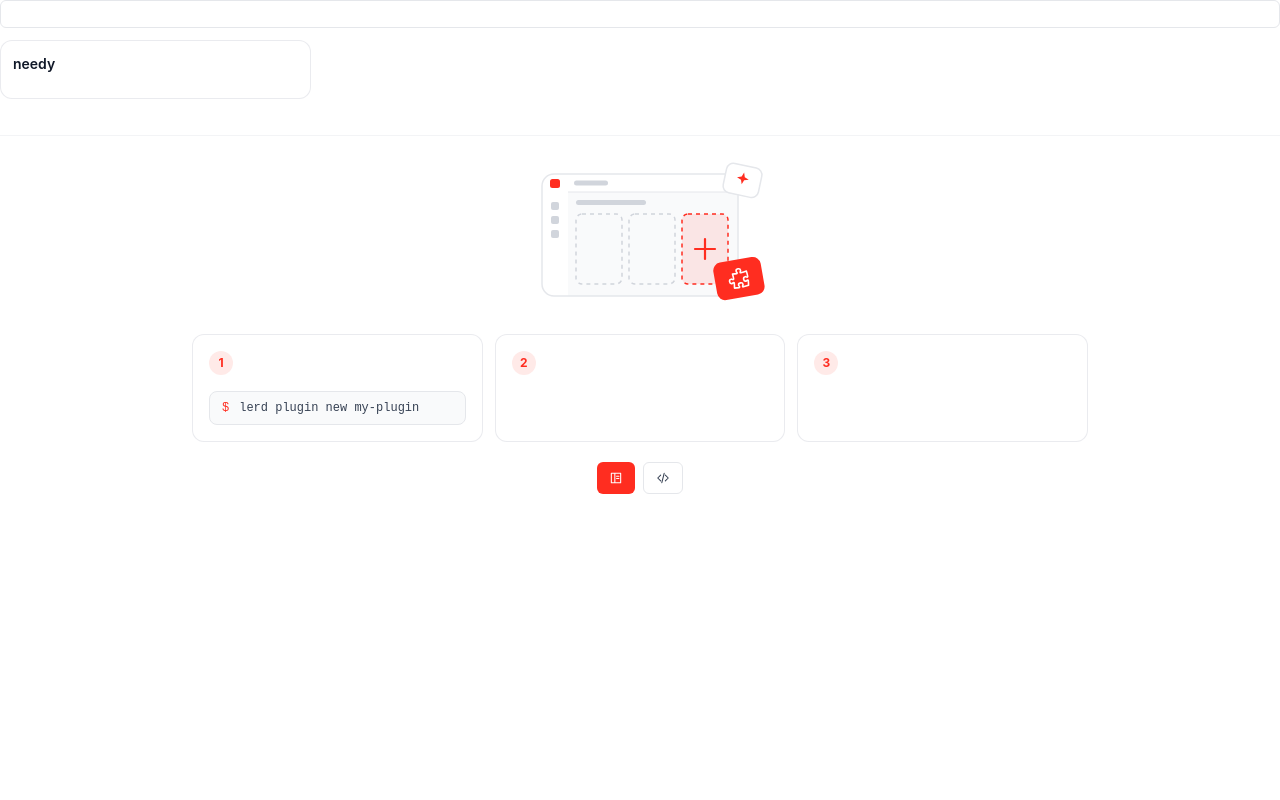
Test: lists what a plugin requires and offers no install while something is missing
Click the button "needy". click: (34, 64)
box: 0,40 -> 311,99
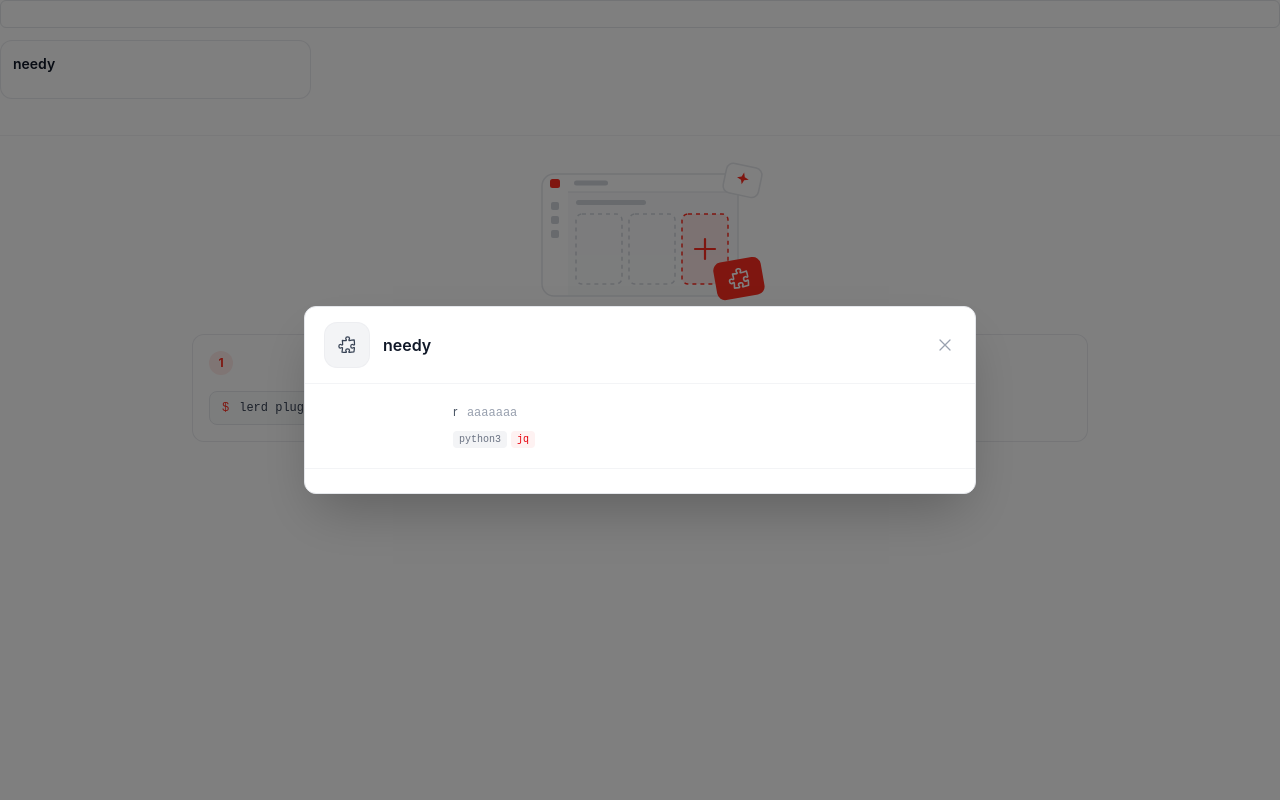
Result: the text "python3" is shown at 453,431 -> 507,448
